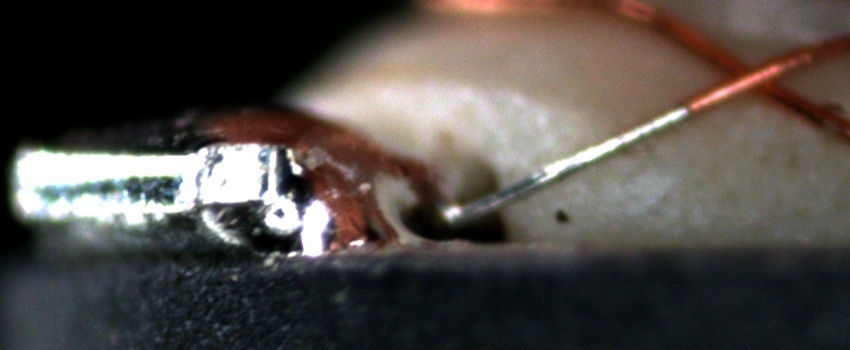CL: (700, 45, 792, 105)
TS: (439, 104, 690, 225)
